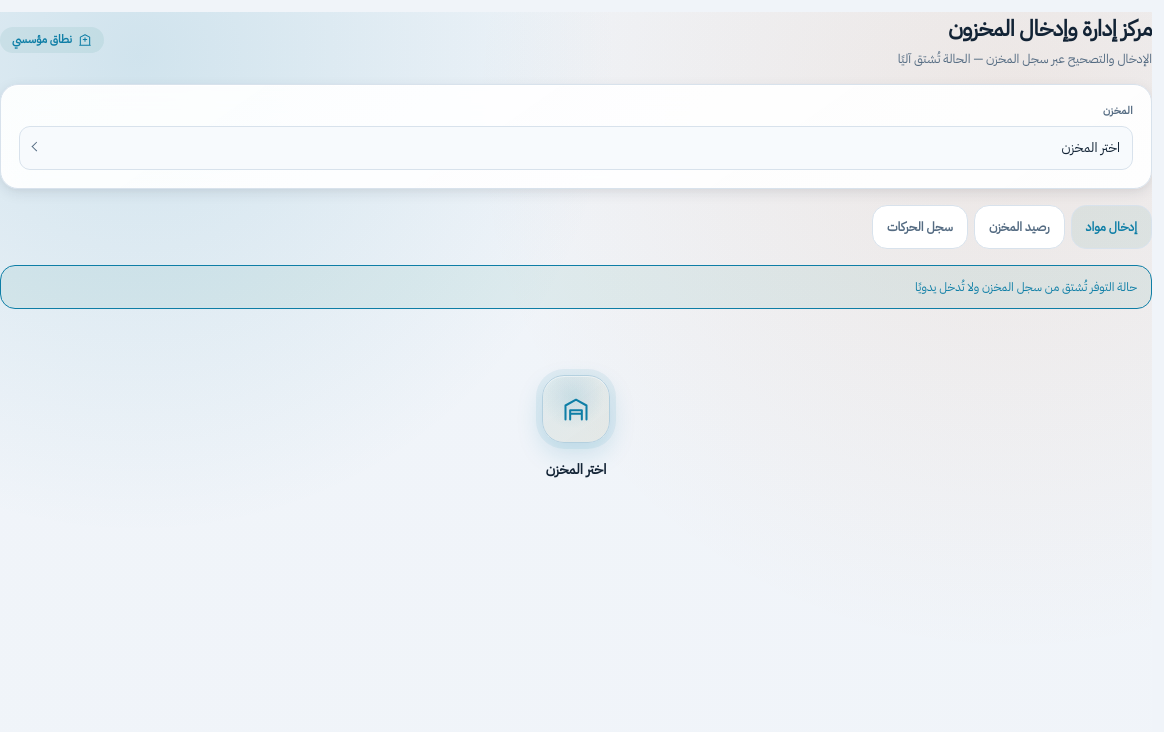
Test case: reproduction — A settled, B pending: what does the panel show right now? › does not display A’s rows or A’s dispose buttons while B is selected and pending
The image size is (1164, 732).
Step 1. Select "مخزن wh-A" in the dropdown labelled "المخزن" → x=576, y=148, box left=19, top=126, right=1133, bottom=170
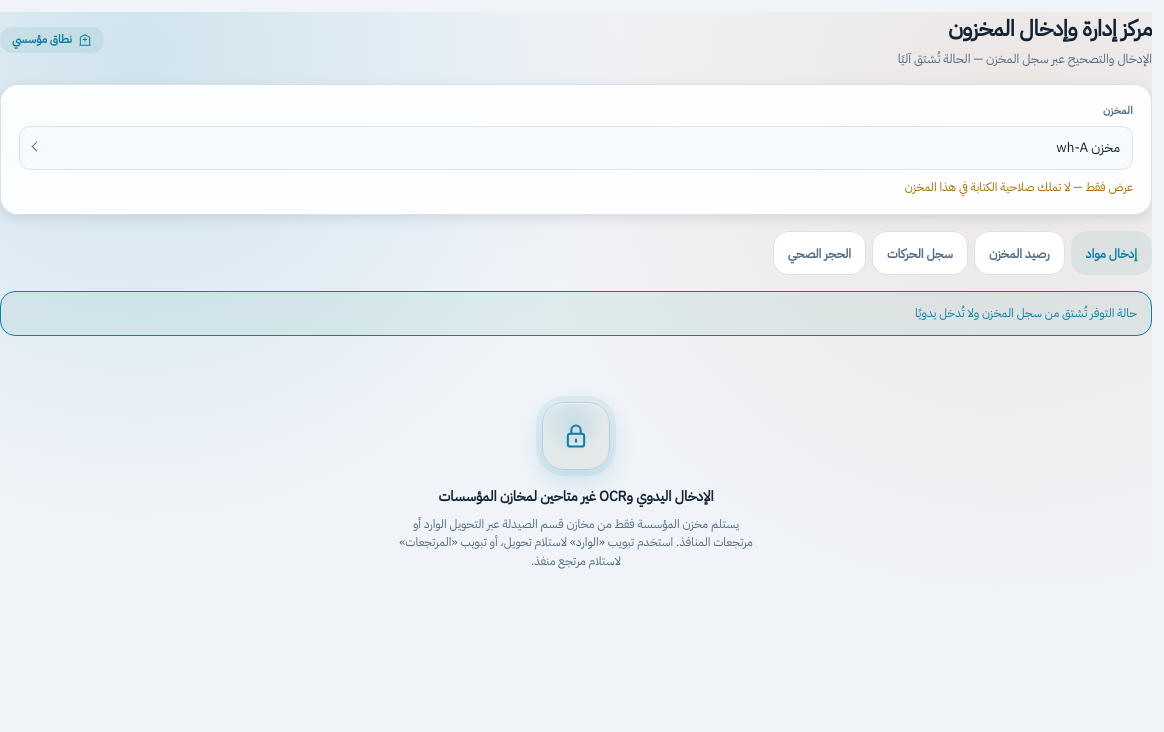
Result: the tab "الحجر الصحي" is shown
Step 2. Click the tab "الحجر الصحي" → x=819, y=253, box left=773, top=231, right=866, bottom=275
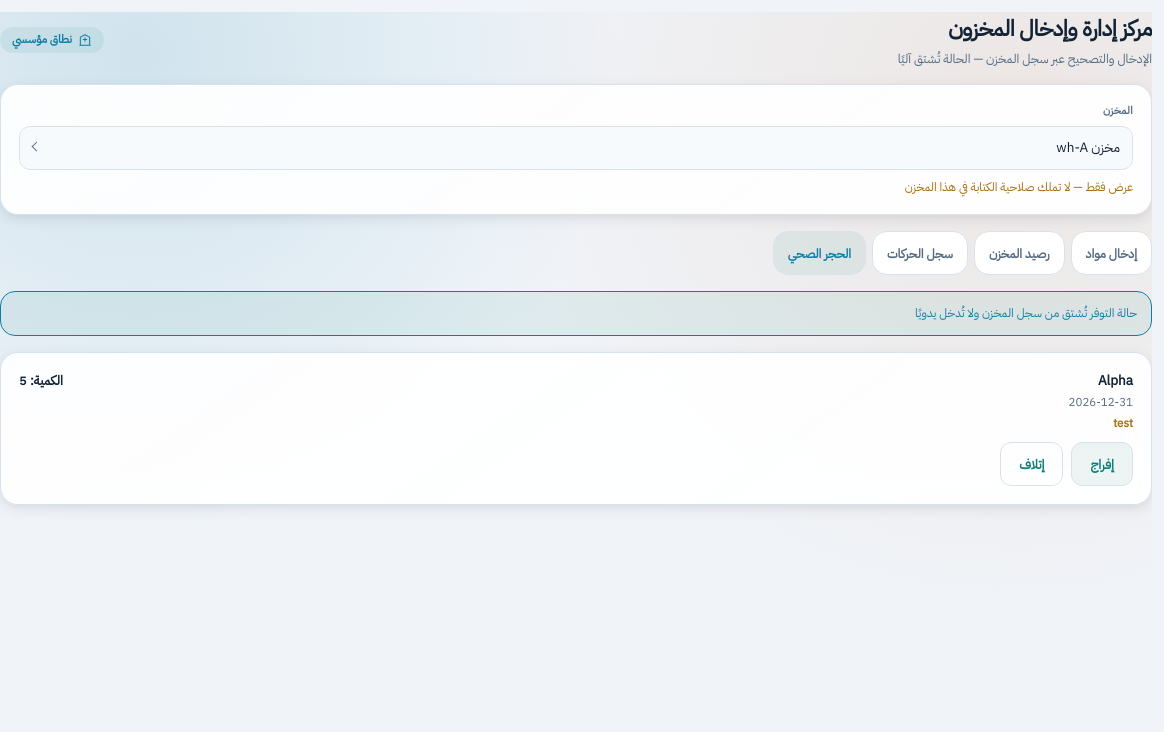
Result: the text "Alpha" is shown at left=1098, top=370, right=1133, bottom=391
Result: the button "إفراج" is shown at left=1072, top=442, right=1133, bottom=486
Step 3. Select "مخزن wh-B" in the dropdown labelled "المخزن" → x=576, y=148, box left=19, top=126, right=1133, bottom=170
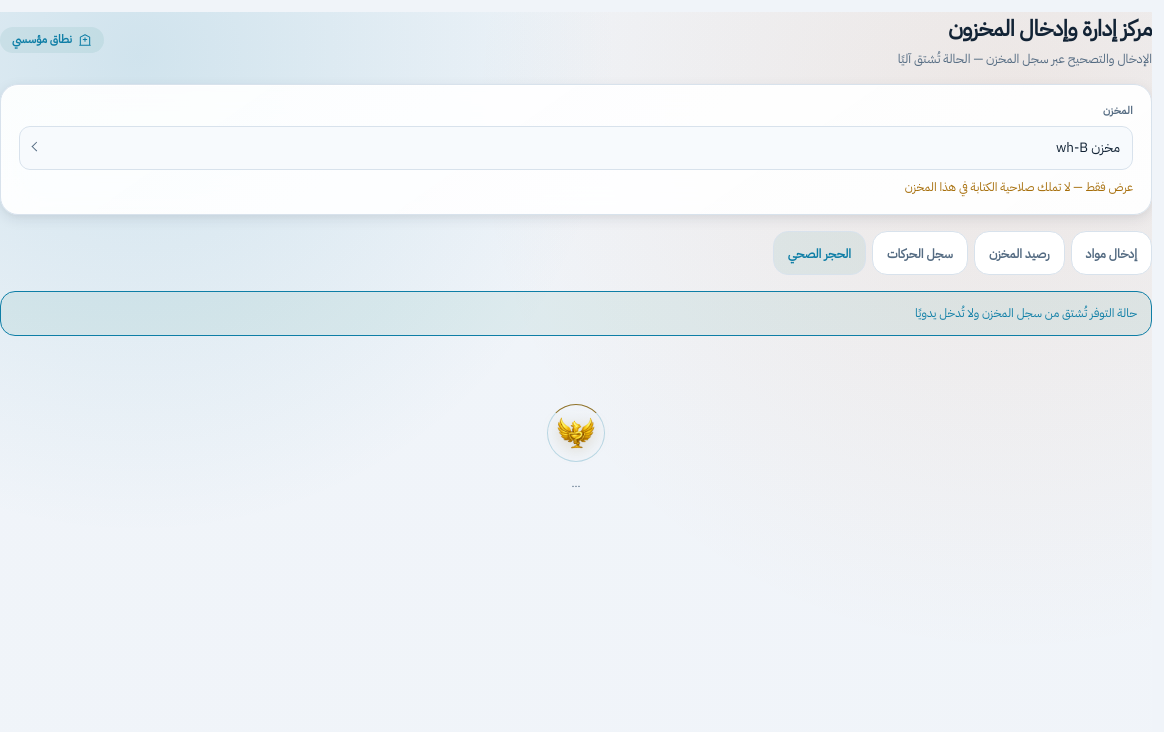
Result: the text "Alpha" is gone
Result: the button "إفراج" is gone
Result: the button "إتلاف" is gone
